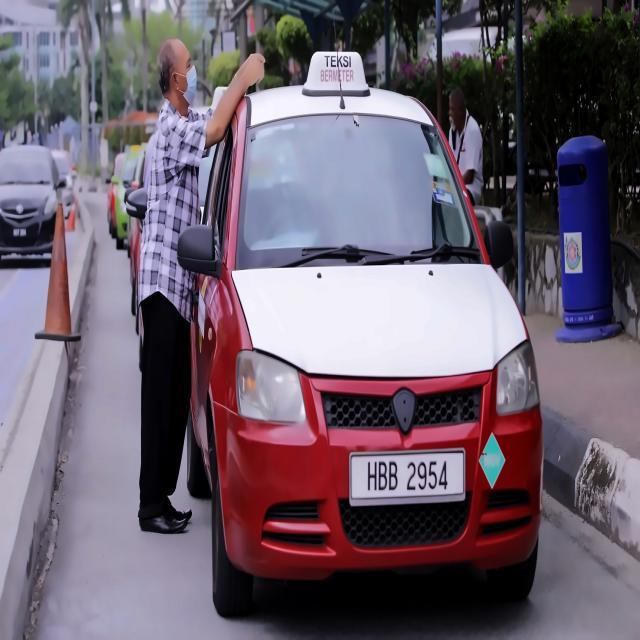car-plate: (348, 451, 466, 503), (12, 225, 26, 238)
